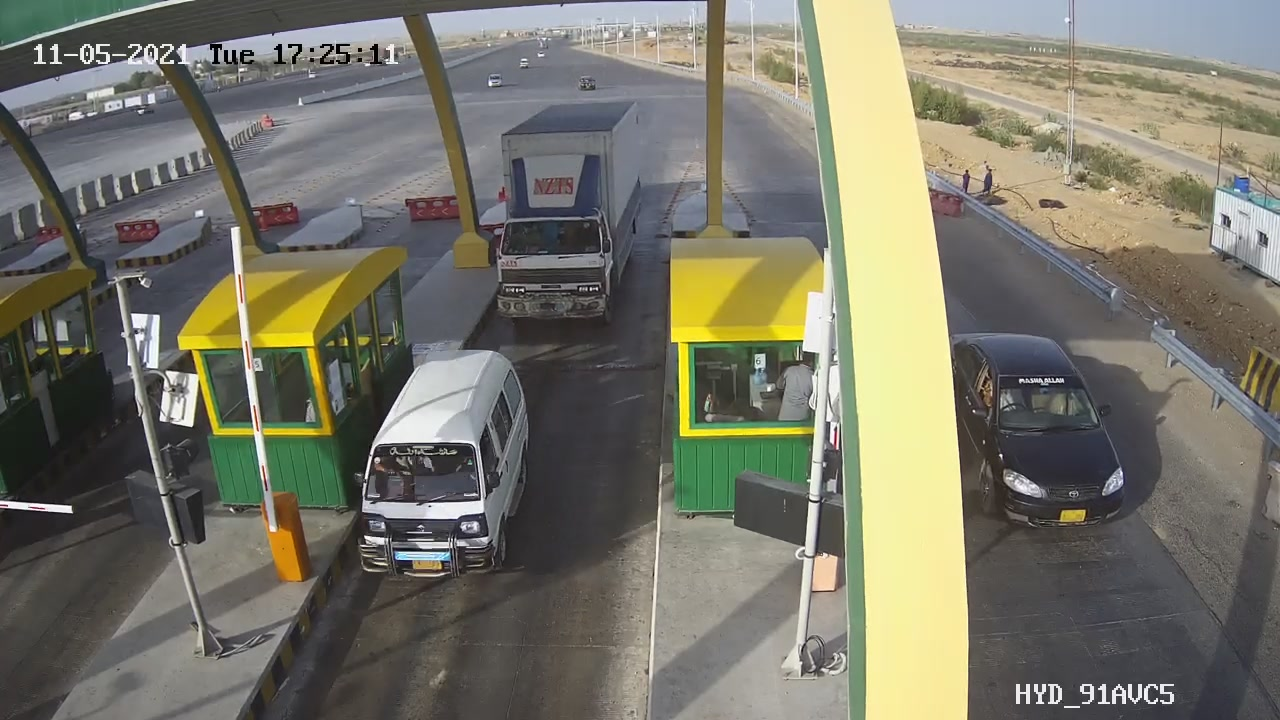F1: (340, 333, 553, 600)
F5: (484, 95, 659, 323)
